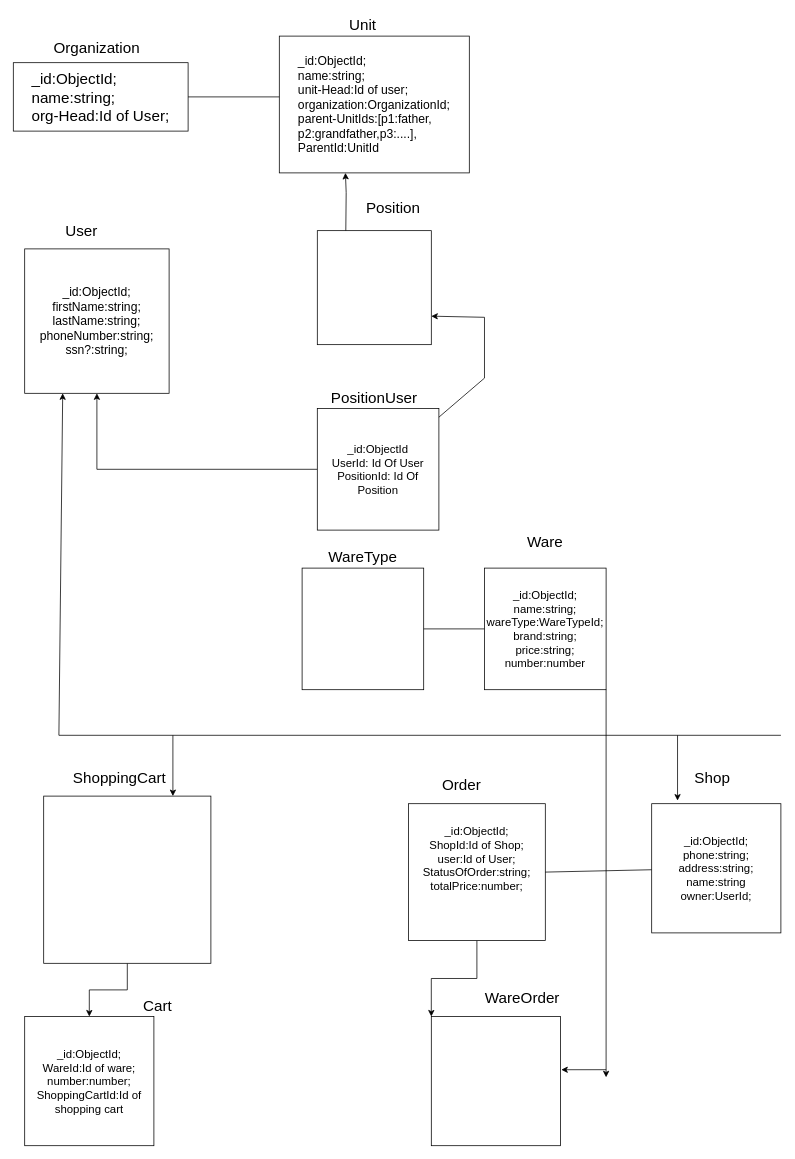
Image size: 795x1159. Some labels were removed from this diagram. Here are the shapes that lost their labels. From the top down, the centre of each, then its label:
(374,287): _id:ObjectId; name:string; unit:UnitId
(362,628): _id:ObjectId; name:string
(127,879): _id:ObjectId; ShopId:Id of Shop; user:Id of User; totalPrice:number;
(495,1081): _id:ObjectId; WareId:Id of ware; number:number; OrderId:Id of order
